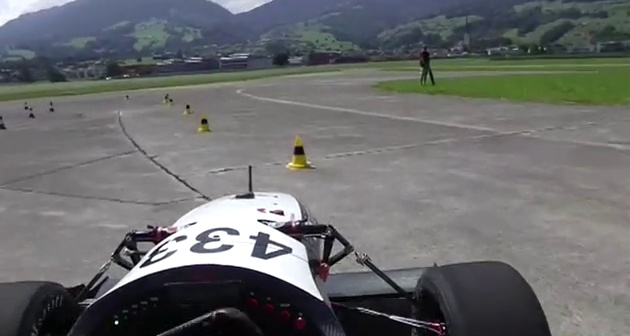Cone: (284, 133, 316, 171), (197, 111, 215, 136)
